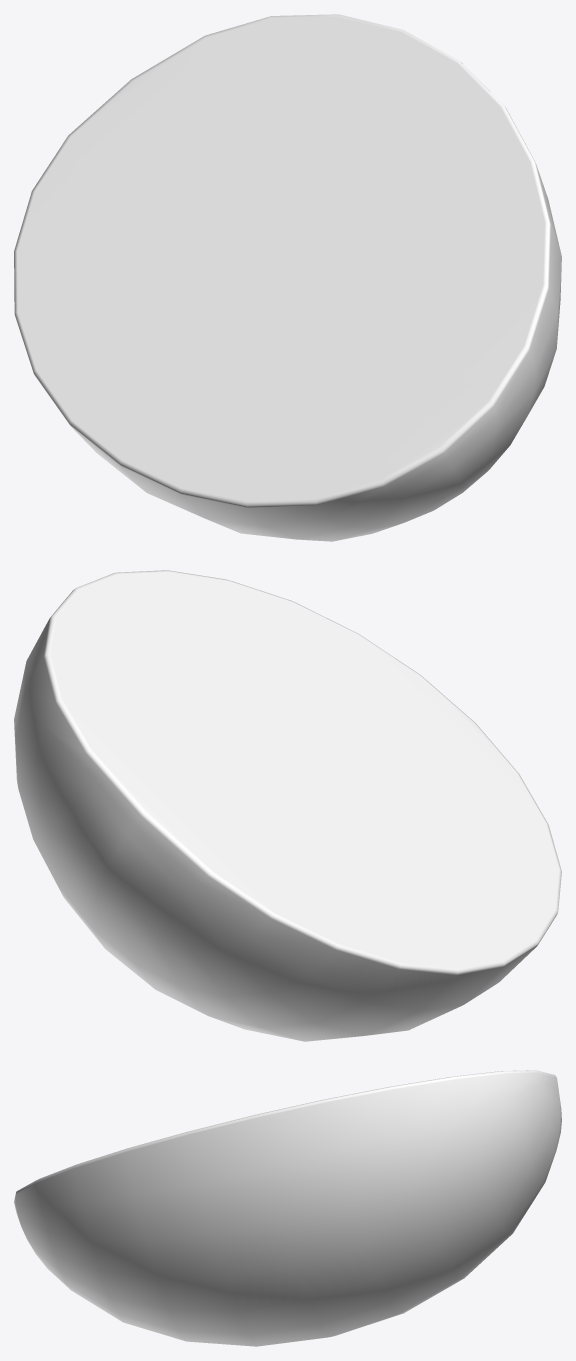
The model's file is ref_bfegghalf.glb.
3 renders of one model, top to bottom at view 1: azimuth 30°, elevation 25°; view 2: azimuth 150°, elevation 25°; view 3: azimuth 270°, elevation 25°, orthographic. The views are drawn at different scales.
Parts seen in each view (by area): view 1: ref_bfegghalf; view 2: ref_bfegghalf; view 3: ref_bfegghalf.
Boxes of the visible parts, box(x1,y1,x2,y2) form: ref_bfegghalf: box(14, 14, 561, 541); ref_bfegghalf: box(14, 570, 561, 1041); ref_bfegghalf: box(14, 1070, 561, 1346).
Bounding box in the file's own units: 0.7823 × 0.6511 × 1.
1 material, 1 textured.
